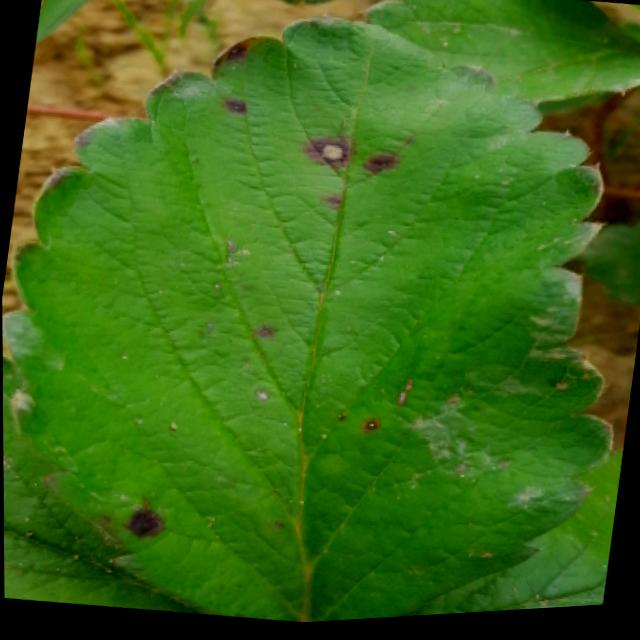Leaf Spot: (2, 20, 614, 626), (2, 411, 209, 617), (405, 454, 623, 621)
